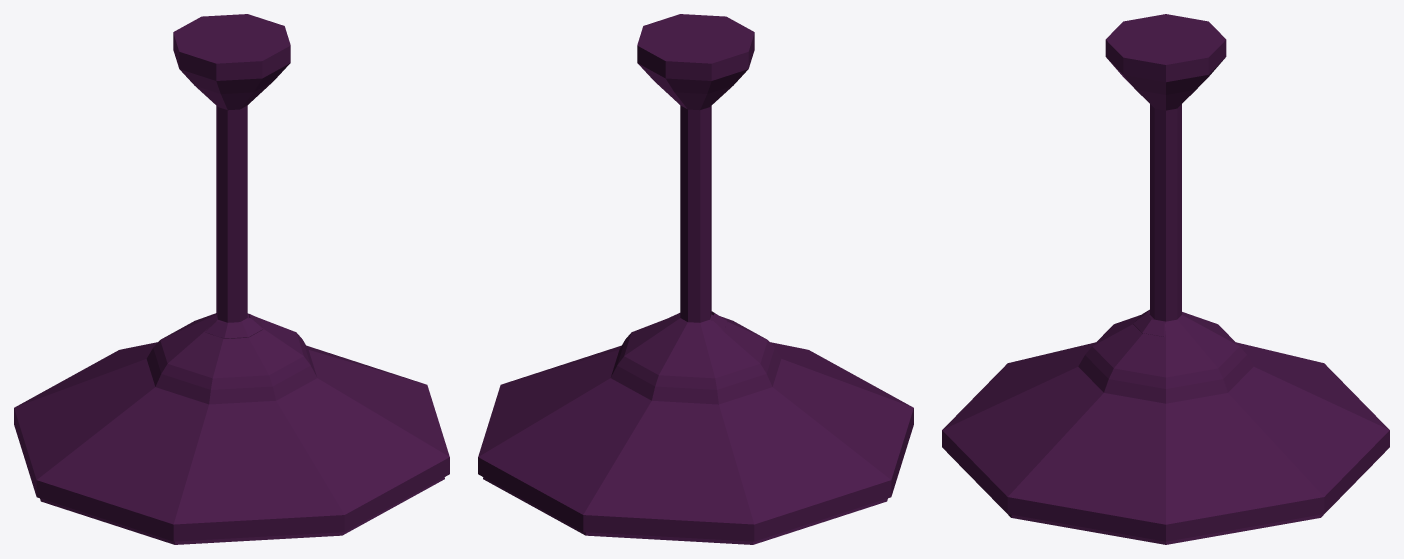
File: avize.fbx
3 renders of one model, left to right at view 1: azimuth 30°, elevation 25°; view 2: azimuth 150°, elevation 25°; view 3: azimuth 270°, elevation 25°, orthographic.
Parts seen in each view (by area): view 1: Cylinder; view 2: Cylinder; view 3: Cylinder.
Part boxes in pixels (x1,y1,x2,y2): Cylinder: [14, 14, 449, 544]; Cylinder: [478, 14, 913, 544]; Cylinder: [942, 14, 1389, 544].
Size of the model in its own units: 454 by 462 by 454.
